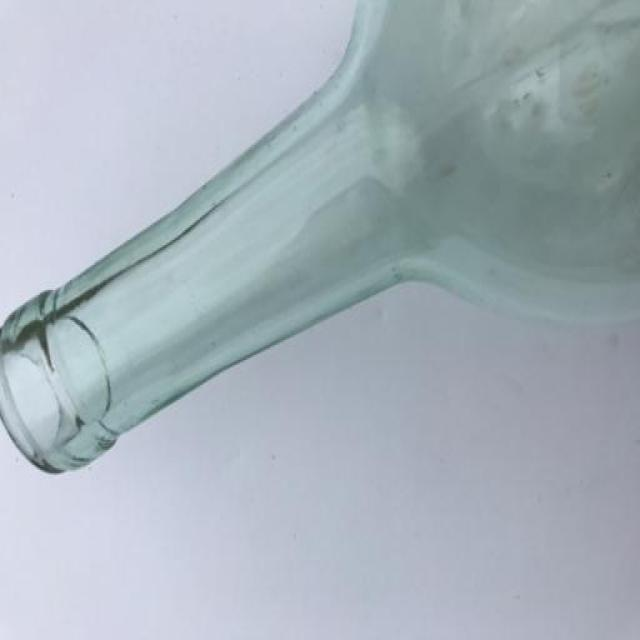Glass: (0, 2, 640, 466)
